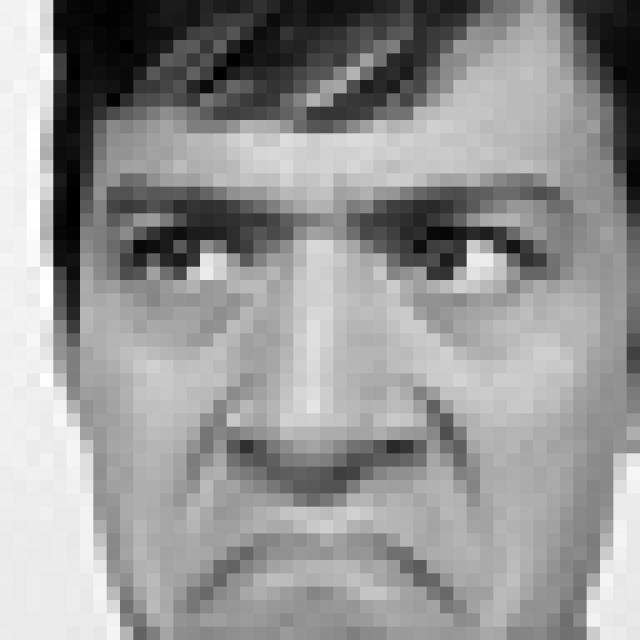sad: (98, 161, 575, 640)
